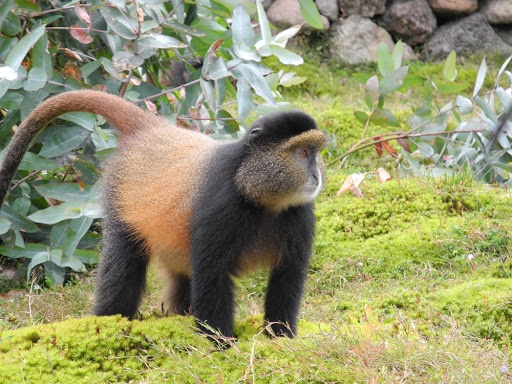monkey: (0, 83, 329, 353)
